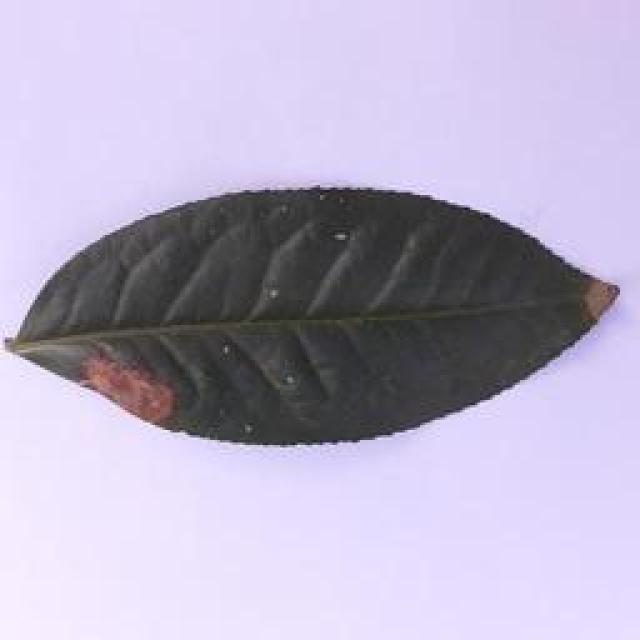Gray Blight: (1, 196, 610, 450)
